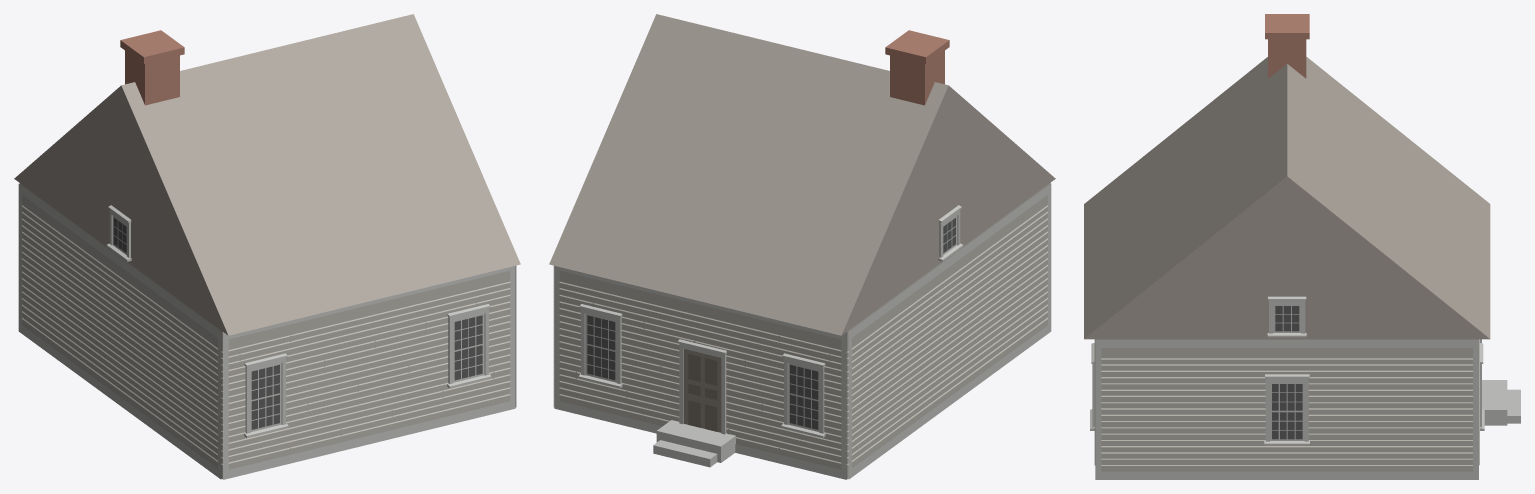
Rendered from recon_1835_south_d6_012__inferred_1835.glb.
3 views of the same model, side by side, from view 1: azimuth 30°, elevation 25°; view 2: azimuth 150°, elevation 25°; view 3: azimuth 270°, elevation 25° (orthographic). The views are drawn at different scales.
Parts seen in each view (by area): view 1: recon_1835_south_d6_012__inferred_1835; view 2: recon_1835_south_d6_012__inferred_1835; view 3: recon_1835_south_d6_012__inferred_1835.
Part boxes in pixels (box(x1,y1,x2,y2)): recon_1835_south_d6_012__inferred_1835: box(14, 14, 520, 479); recon_1835_south_d6_012__inferred_1835: box(549, 14, 1055, 479); recon_1835_south_d6_012__inferred_1835: box(1084, 14, 1520, 479).
Size of the model in its own units: 7.26 by 8.13 by 9.6.
